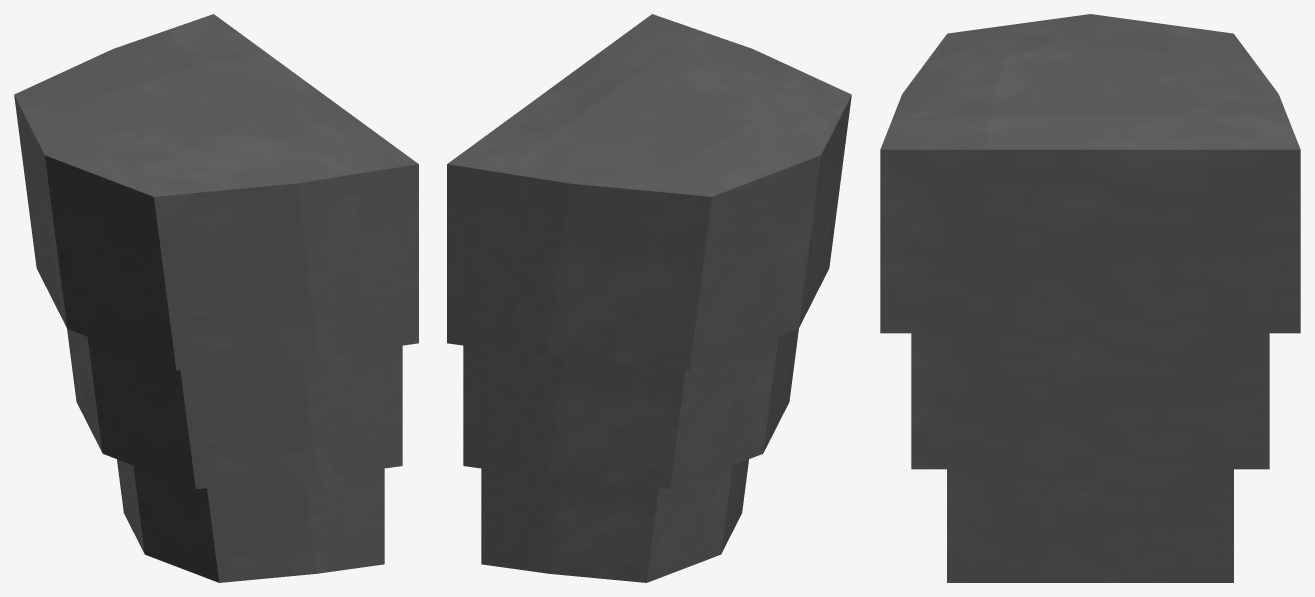
File: mod_natural_rock2.fbx
3 renders of one model, left to right at view 1: azimuth 30°, elevation 25°; view 2: azimuth 150°, elevation 25°; view 3: azimuth 270°, elevation 25°, orthographic. The views are drawn at different scales.
Parts seen in each view (by area): view 1: mesh_obj_env_nat_rock2; view 2: mesh_obj_env_nat_rock2; view 3: mesh_obj_env_nat_rock2.
Boxes of the visible parts, <box> form: mesh_obj_env_nat_rock2: <box>14,14,418,582</box>; mesh_obj_env_nat_rock2: <box>447,14,851,582</box>; mesh_obj_env_nat_rock2: <box>880,14,1300,582</box>.
Bounding box in the file's own units: 435 × 658 × 570.
